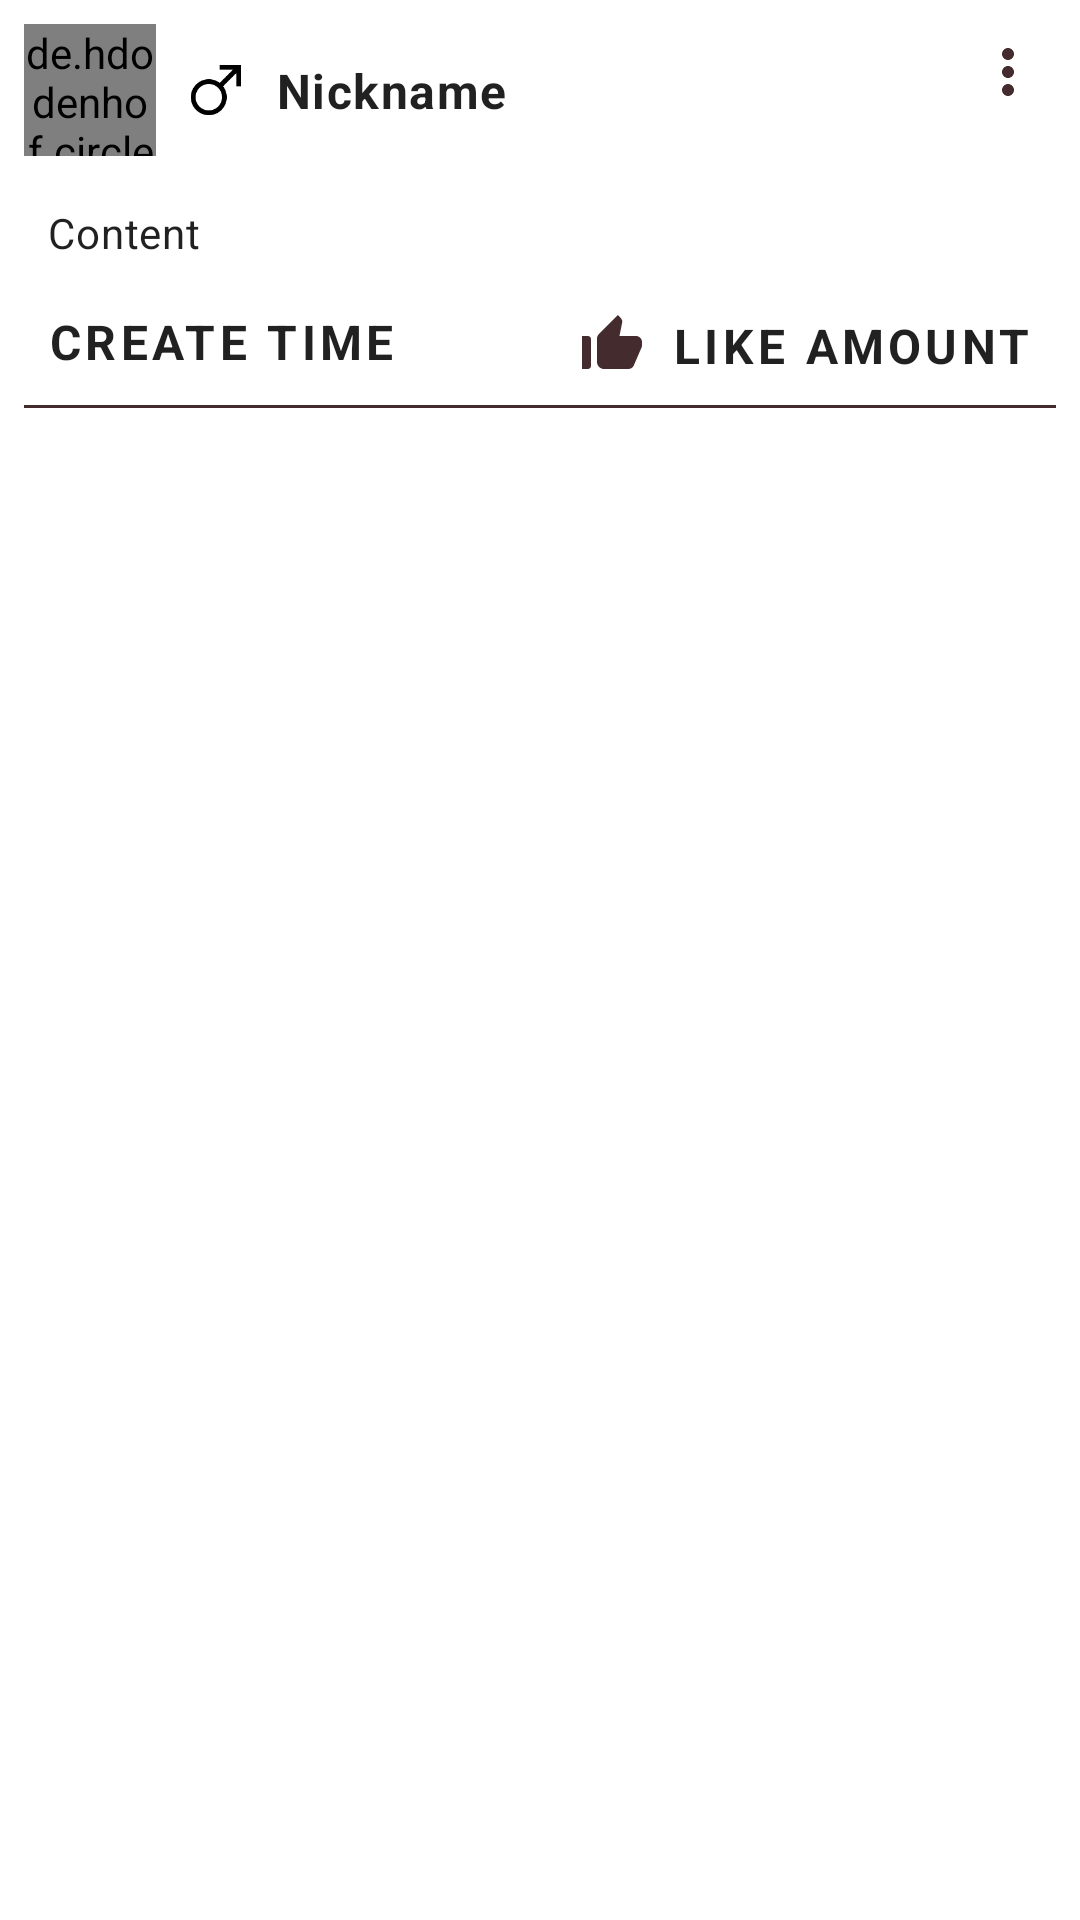

Where icons sit on this 1080px x 1920px app screen, as rect(x1, y1, x2, y2):
gender male: rect(191, 65, 241, 115)
more vert: rect(1002, 48, 1014, 96)
thumb up: rect(582, 315, 642, 369)
